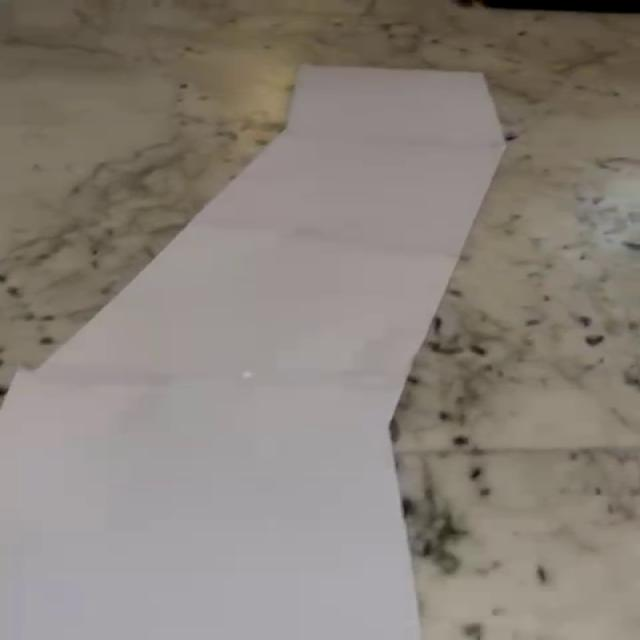road: (3, 66, 505, 640)
